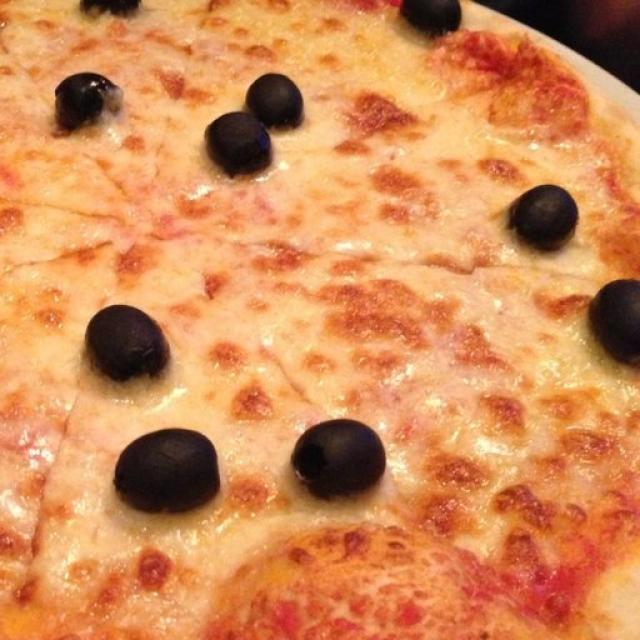Cheese: (179, 198, 466, 365), (318, 52, 475, 263), (424, 345, 559, 536), (0, 304, 70, 558), (17, 174, 165, 287)
Olives: (109, 423, 225, 515), (78, 299, 175, 386), (291, 420, 386, 503), (504, 180, 580, 247), (590, 276, 640, 367), (204, 109, 272, 174), (51, 68, 120, 131), (246, 68, 308, 131), (402, 0, 462, 35)
